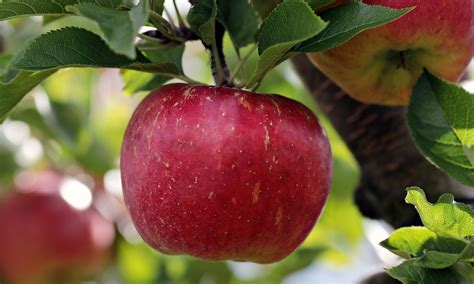apple: (113, 79, 338, 268)
